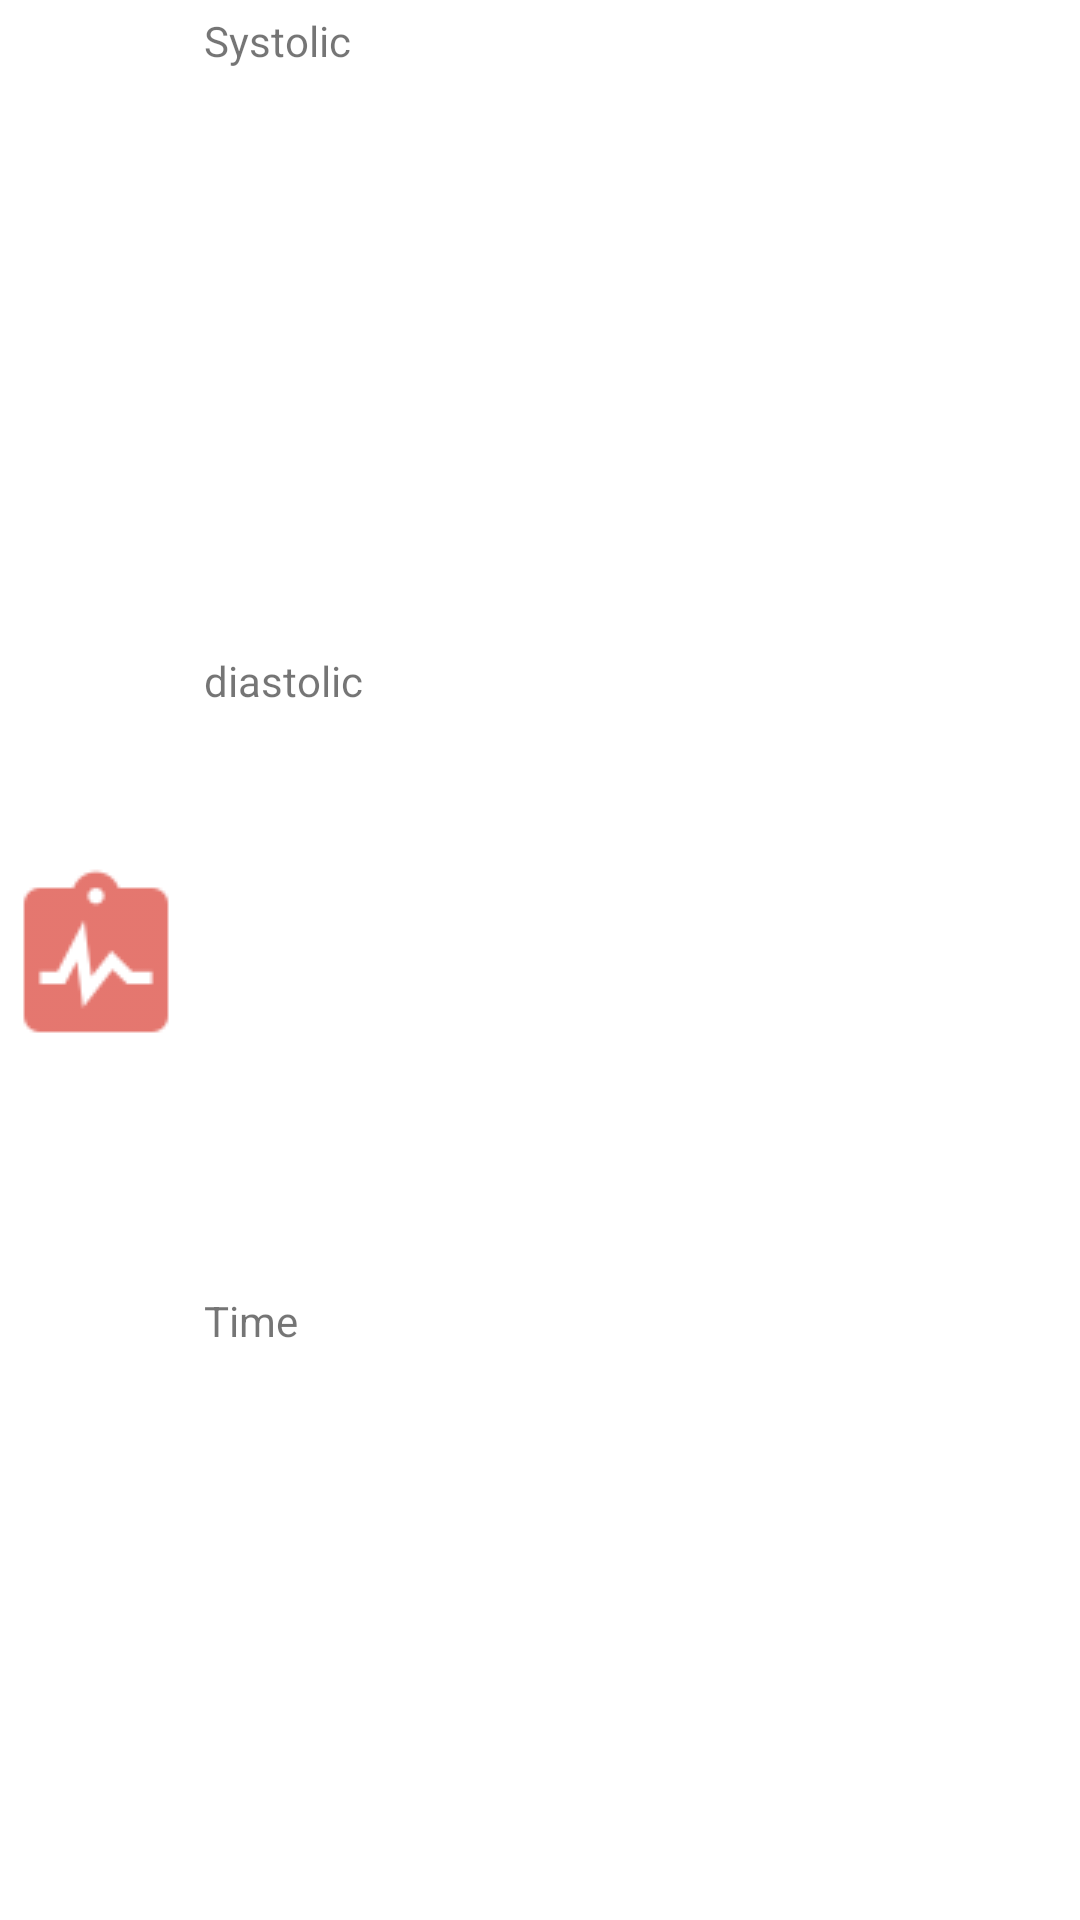

Icons on this 1080×1920 Android screen, each with the point to tap as [x,y]:
clipboard pulse: [96,951]
